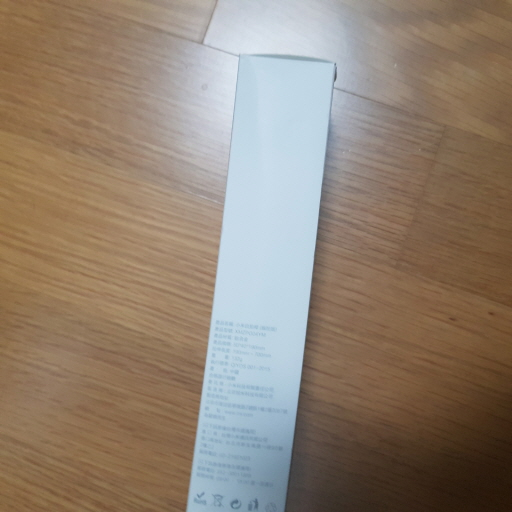Paper_0: (186, 46, 346, 512)
